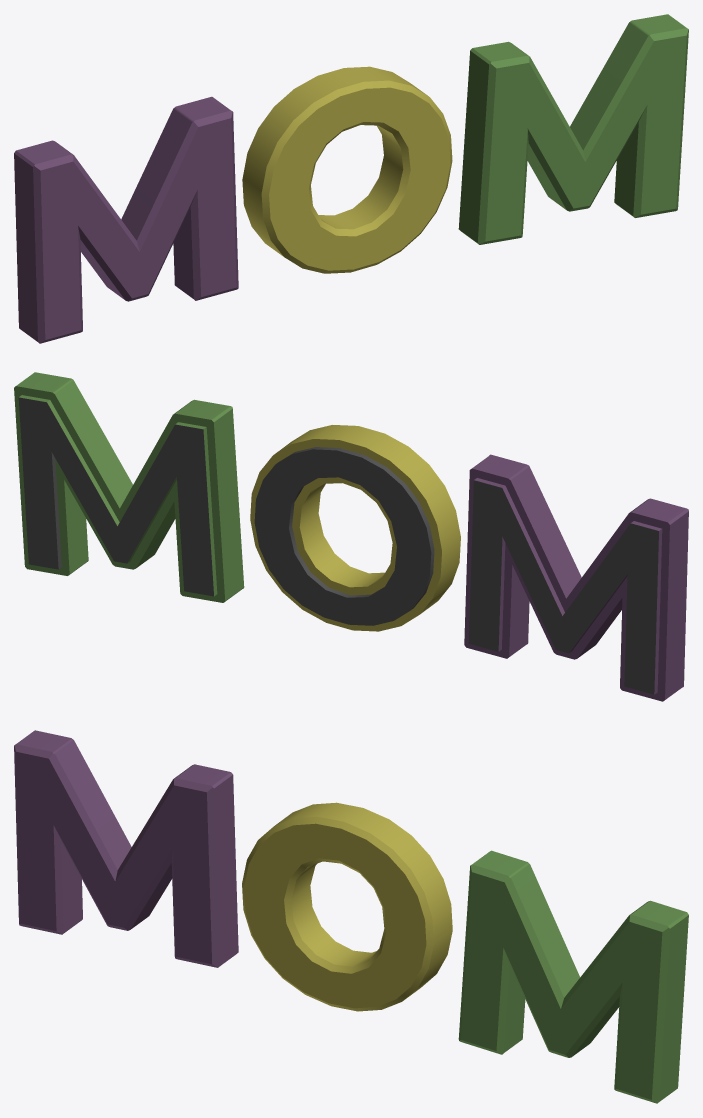
The model's file is Magnets_MOM.fbx.
The picture shows the model from 3 angles, top to bottom: view 1: azimuth 30°, elevation 25°; view 2: azimuth 150°, elevation 25°; view 3: azimuth 330°, elevation 25°; orthographic projection.
Visible parts, largest first — view 1: M1, M, O; view 2: M1, M, O; view 3: M, M1, O.
Boxes of the visible parts, x1=… form: M1: x1=458, y1=14, x2=688, y2=244; M: x1=14, y1=96, x2=238, y2=343; O: x1=242, y1=66, x2=452, y2=273; M1: x1=14, y1=372, x2=244, y2=602; M: x1=464, y1=454, x2=688, y2=701; O: x1=250, y1=425, x2=460, y2=631; M: x1=14, y1=730, x2=238, y2=967; M1: x1=458, y1=850, x2=688, y2=1103; O: x1=242, y1=802, x2=452, y2=1011.
Bounding box in the file's own units: 45.85 × 13.97 × 3.09.
